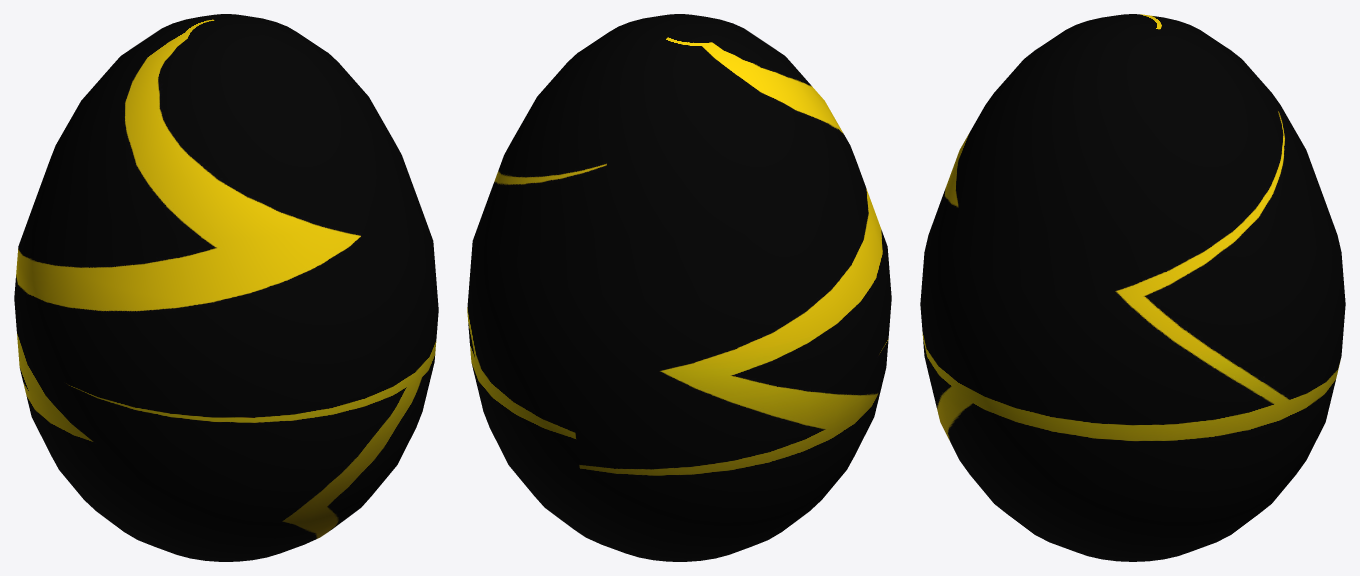
Rendered from egg02.glb.
3 views of the same model, side by side, from view 1: azimuth 30°, elevation 25°; view 2: azimuth 150°, elevation 25°; view 3: azimuth 270°, elevation 25° (orthographic).
Parts seen in each view (by area): view 1: Sphere001; view 2: Sphere001; view 3: Sphere001.
Boxes of the visible parts, x1,y1,x2,y2 form: Sphere001: (14, 14, 438, 561); Sphere001: (467, 14, 891, 561); Sphere001: (920, 14, 1345, 561).
Size of the model in its own units: 0.7237 by 0.9744 by 0.7237.
Materials: 1 (1 with a texture image).
